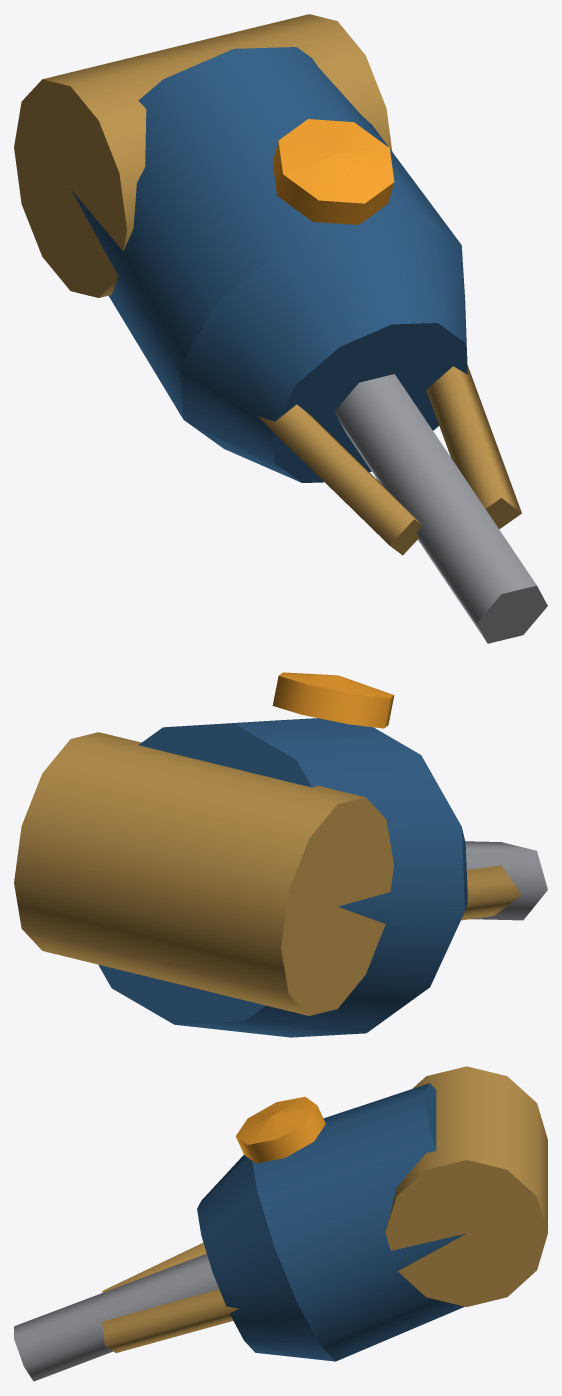
File: rm2_tool_head.obj
3 views of the same model, one above another, from view 1: azimuth 30°, elevation 25°; view 2: azimuth 150°, elevation 25°; view 3: azimuth 270°, elevation 25° (orthographic). The views are drawn at different scales.
Visible parts, largest first — view 1: rm2_tool_head; view 2: rm2_tool_head; view 3: rm2_tool_head.
Part boxes in pixels (<box>): rm2_tool_head: <box>14,14,547,643</box>; rm2_tool_head: <box>14,672,547,1037</box>; rm2_tool_head: <box>14,1066,547,1381</box>.
Bounding box in the file's own units: 0.064 × 0.0841 × 0.1447.
